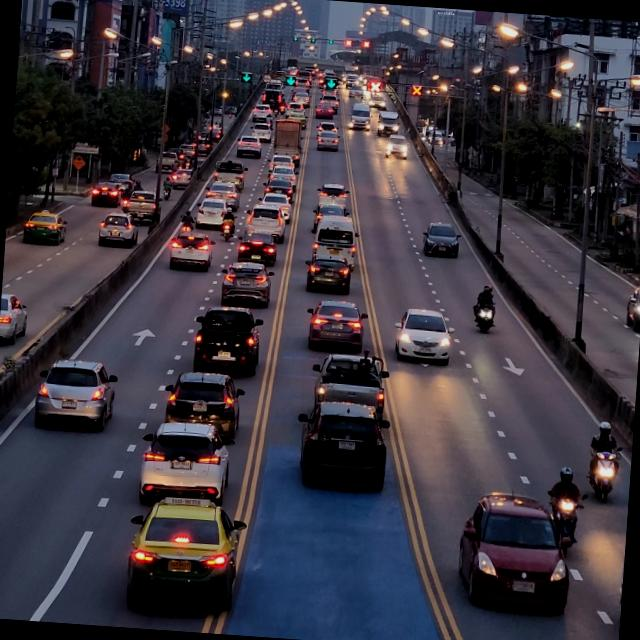Vehicle: (453, 486, 578, 615), (123, 494, 254, 612), (291, 400, 394, 494), (140, 418, 234, 502), (34, 354, 120, 433), (190, 300, 265, 378), (308, 348, 390, 416), (165, 373, 249, 437), (393, 302, 457, 368), (302, 298, 372, 354), (220, 257, 274, 308), (162, 232, 218, 274), (306, 252, 358, 296), (0, 284, 34, 344), (421, 219, 466, 261), (98, 212, 143, 250)
